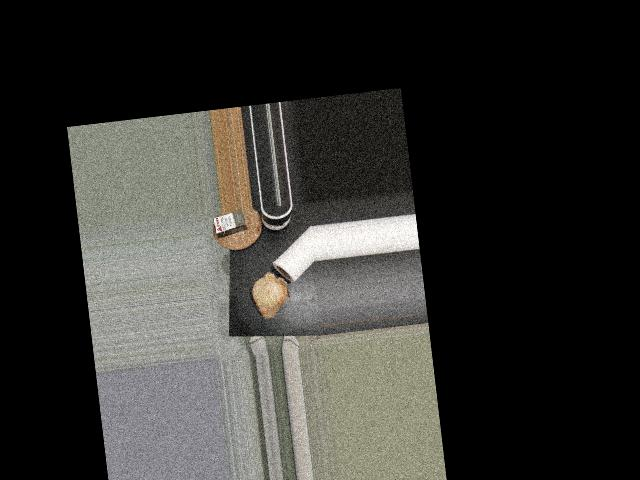onion: (248, 271, 287, 318)
